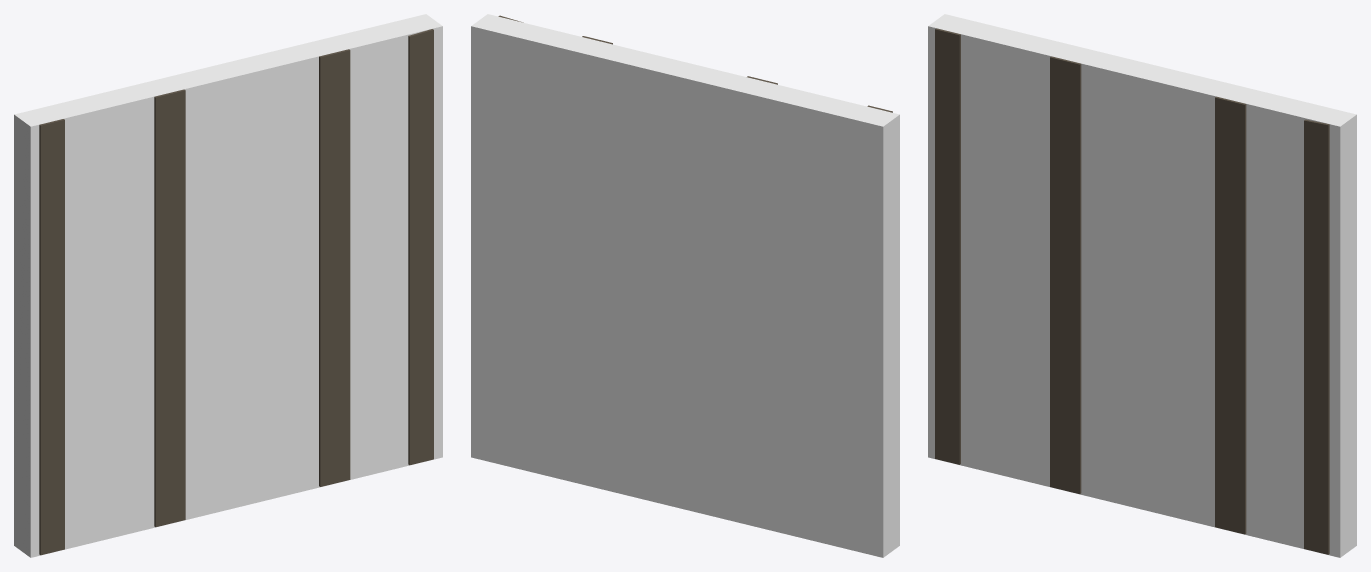
Rendered from _ROOF_up_quad_1.fbx.
3 views of the same model, side by side, from view 1: azimuth 30°, elevation 25°; view 2: azimuth 150°, elevation 25°; view 3: azimuth 330°, elevation 25° (orthographic).
Visible parts, largest first — view 1: ROOF_up_quad_1; view 2: ROOF_up_quad_1; view 3: ROOF_up_quad_1.
Part boxes in pixels (box(x1,y1,x2,y2)): ROOF_up_quad_1: box(14, 14, 442, 557); ROOF_up_quad_1: box(471, 14, 899, 557); ROOF_up_quad_1: box(928, 14, 1356, 557).
Bounding box in the file's own units: 100 × 100 × 7.61.
